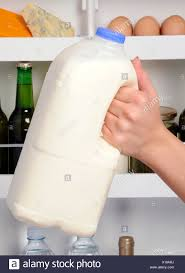milk: (15, 16, 126, 239)
